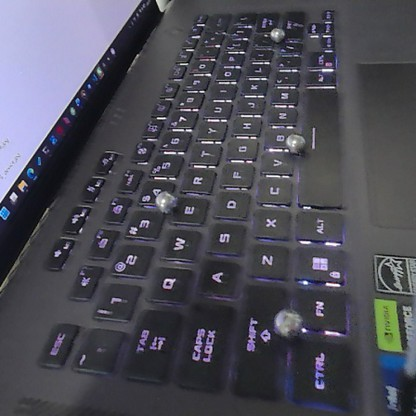ironball: (270, 305, 303, 340), (147, 187, 178, 215), (280, 130, 304, 155), (265, 23, 288, 46)
